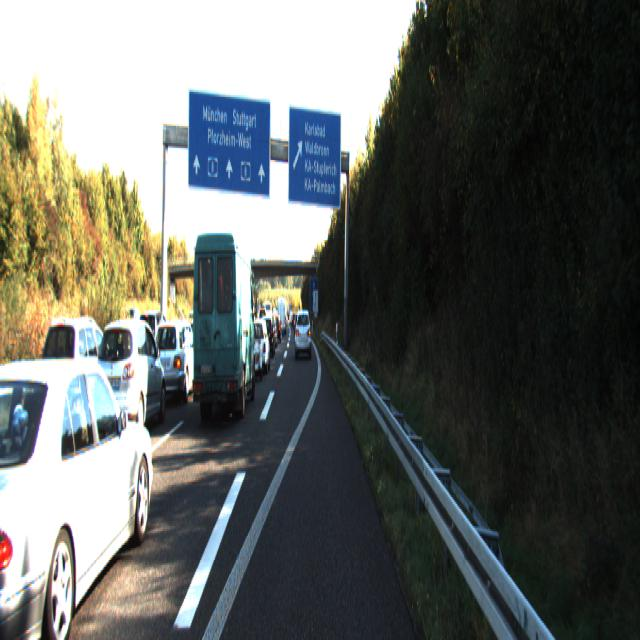Car: (0, 344, 158, 638), (190, 227, 256, 428), (36, 312, 119, 432), (92, 316, 168, 447), (150, 315, 202, 405), (247, 313, 270, 373), (294, 307, 311, 357), (258, 315, 276, 357)
